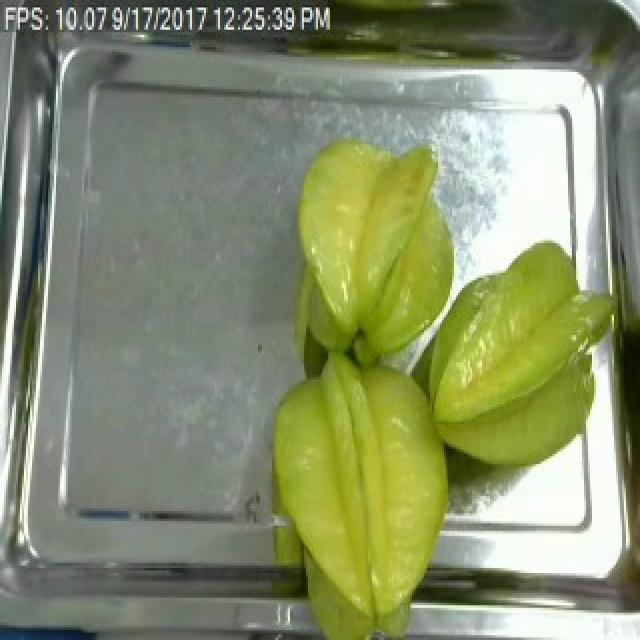fruit: (258, 342, 462, 638), (416, 236, 612, 478), (286, 132, 464, 377)
